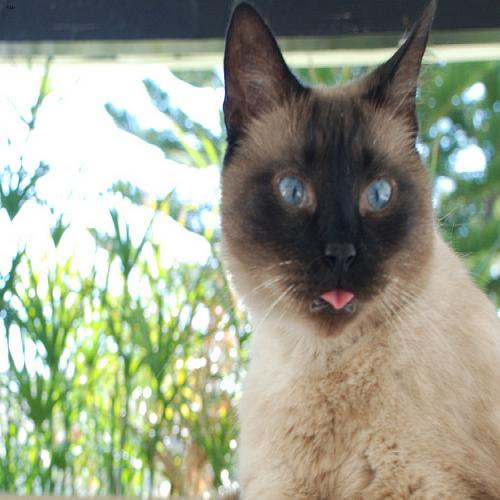siamese: (206, 1, 453, 350)
